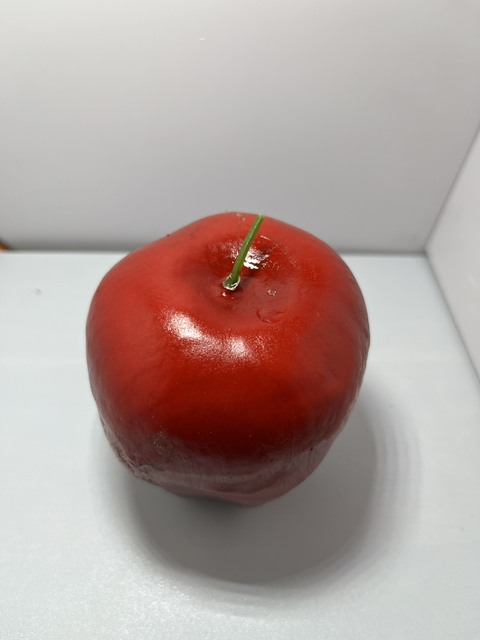Tao: (78, 210, 377, 513)
